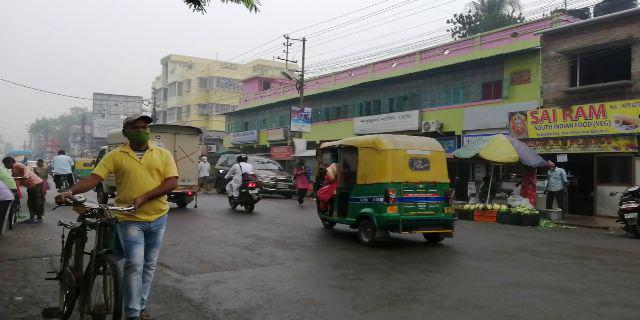Autorickshaw: (319, 134, 456, 242)
Cycle: (57, 190, 130, 314)
Motorbike: (223, 167, 261, 214)
